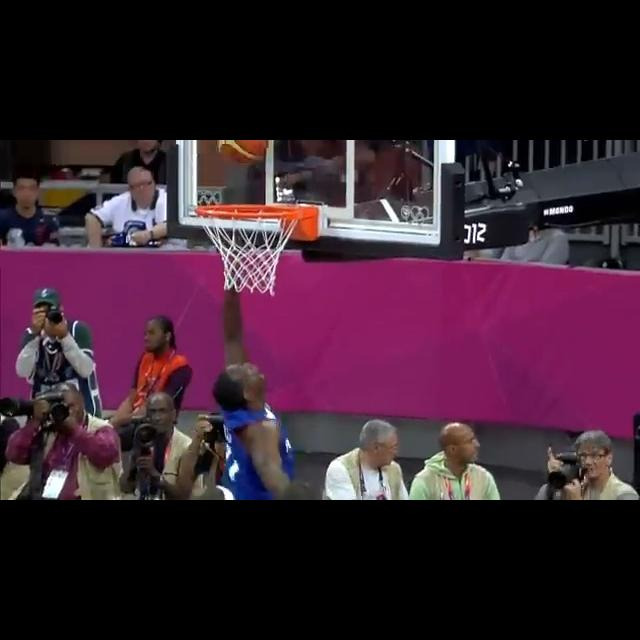basketball: (210, 141, 274, 167)
hoop: (195, 200, 315, 294)
